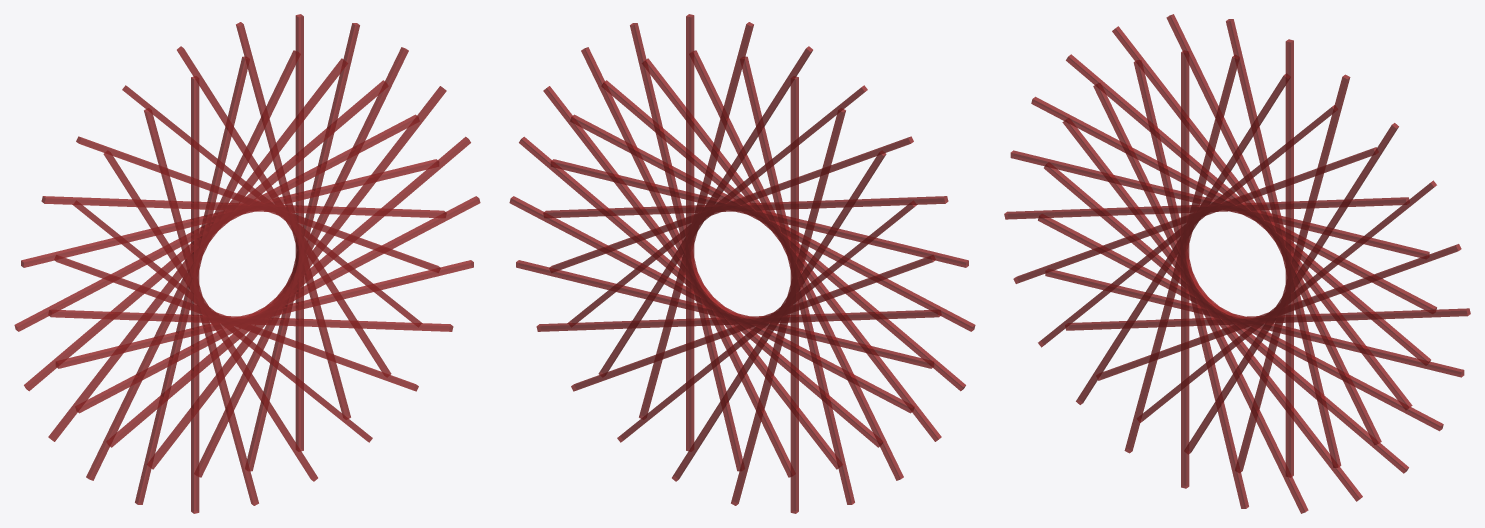
File: Lvl_008.fbx
3 renders of one model, left to right at view 1: azimuth 30°, elevation 25°; view 2: azimuth 150°, elevation 25°; view 3: azimuth 330°, elevation 25°, orthographic.
Parts seen in each view (by area): view 1: pCube27, pCube26, pCube42, pCube30, pCube43, pCube29, pCube39, pCube40, pCube38, pCube31, pCube28, pCube41 (+12 smaller); view 2: pCube27, pCube42, pCube26, pCube43, pCube29, pCube30, pCube39, pCube31, pCube38, pCube40, pCube28, pCube41 (+12 smaller); view 3: pCube35, pCube2, pCube24, pCube32, pCube36, pCube37, pCube34, pCube25, pCube33, pCube45, pCube41, pCube28 (+12 smaller).
Boxes of the visible parts, x1=… form: pCube27: x1=48, y1=58, x2=348, y2=441; pCube26: x1=86, y1=50, x2=300, y2=480; pCube42: x1=194, y1=47, x2=408, y2=477; pCube30: x1=24, y1=80, x2=388, y2=391; pCube43: x1=147, y1=86, x2=446, y2=469; pCube29: x1=135, y1=56, x2=249, y2=504; pCube39: x1=106, y1=136, x2=470, y2=447; pCube40: x1=245, y1=23, x2=359, y2=471; pCube38: x1=75, y1=196, x2=480, y2=413; pCube31: x1=14, y1=114, x2=419, y2=331; pCube28: x1=191, y1=76, x2=199, y2=513; pCube41: x1=295, y1=14, x2=303, y2=451; pCube27: x1=642, y1=58, x2=941, y2=441; pCube42: x1=581, y1=47, x2=795, y2=477; pCube26: x1=689, y1=50, x2=903, y2=480; pCube43: x1=543, y1=86, x2=842, y2=469; pCube29: x1=740, y1=56, x2=854, y2=504; pCube30: x1=601, y1=80, x2=965, y2=391; pCube39: x1=519, y1=136, x2=883, y2=447; pCube31: x1=570, y1=114, x2=975, y2=331; pCube38: x1=509, y1=196, x2=914, y2=413; pCube40: x1=630, y1=23, x2=744, y2=471; pCube28: x1=790, y1=76, x2=798, y2=513; pCube41: x1=686, y1=14, x2=694, y2=451; pCube35: x1=1112, y1=26, x2=1412, y2=410; pCube2: x1=1062, y1=118, x2=1362, y2=501; pCube24: x1=1093, y1=83, x2=1308, y2=513; pCube32: x1=1066, y1=54, x2=1430, y2=365; pCube36: x1=1166, y1=14, x2=1381, y2=444; pCube37: x1=1226, y1=19, x2=1341, y2=467; pCube34: x1=1044, y1=162, x2=1408, y2=473; pCube25: x1=1133, y1=60, x2=1248, y2=508; pCube33: x1=1031, y1=96, x2=1436, y2=313; pCube45: x1=1038, y1=214, x2=1443, y2=431; pCube41: x1=1285, y1=39, x2=1293, y2=477; pCube28: x1=1181, y1=51, x2=1189, y2=488.
Size of the model in its own units: 2230 by 2230 by 25.
